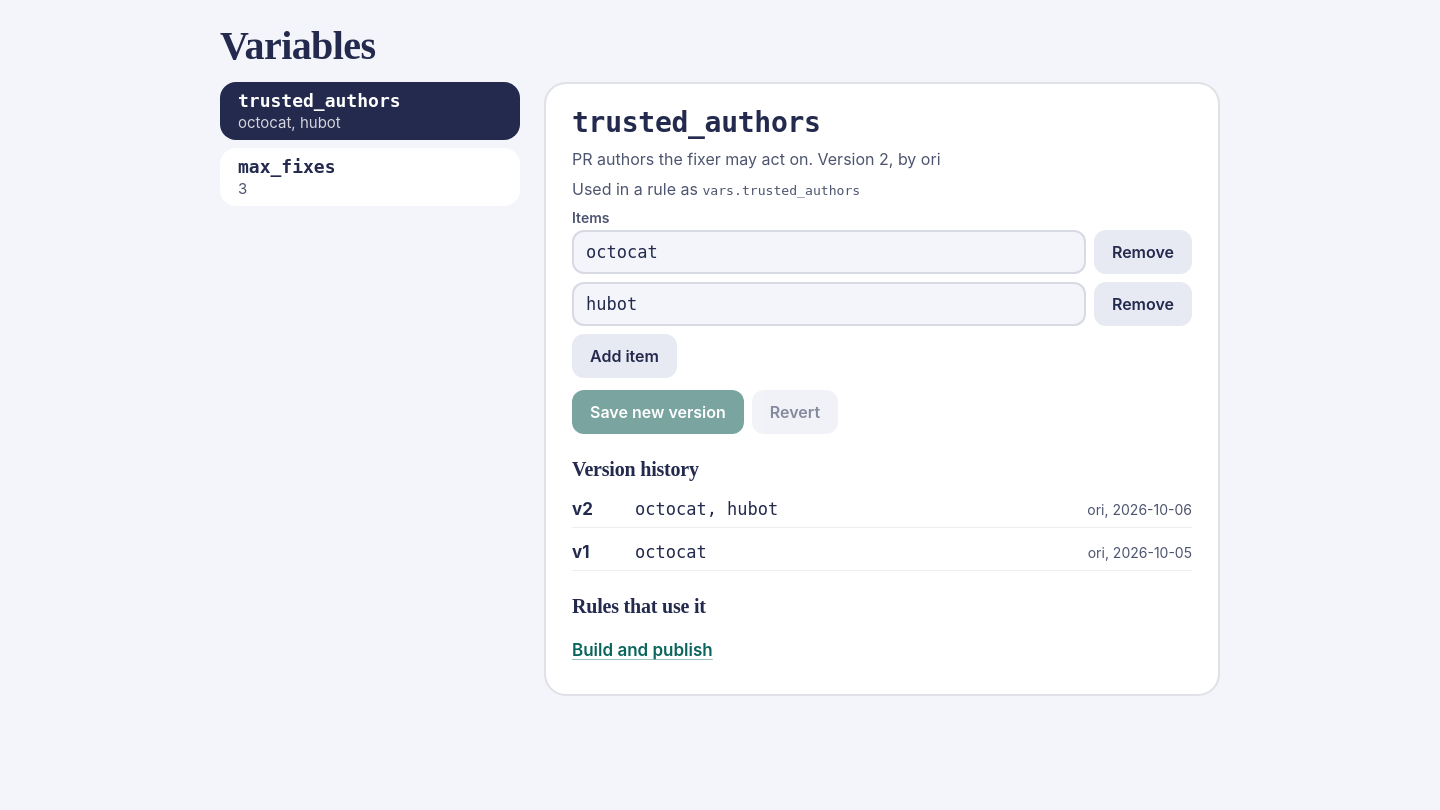
Test case: Variables tab › lets an admin edit a list one item per row and appends a version
Expected: the field named "Item 1" holds "octocat", [572, 230, 1086, 274]
Expected: the field named "Item 2" holds "hubot", [572, 282, 1086, 326]
Step 1. Click the button "Add item" → (624, 356), box [572, 334, 677, 378]
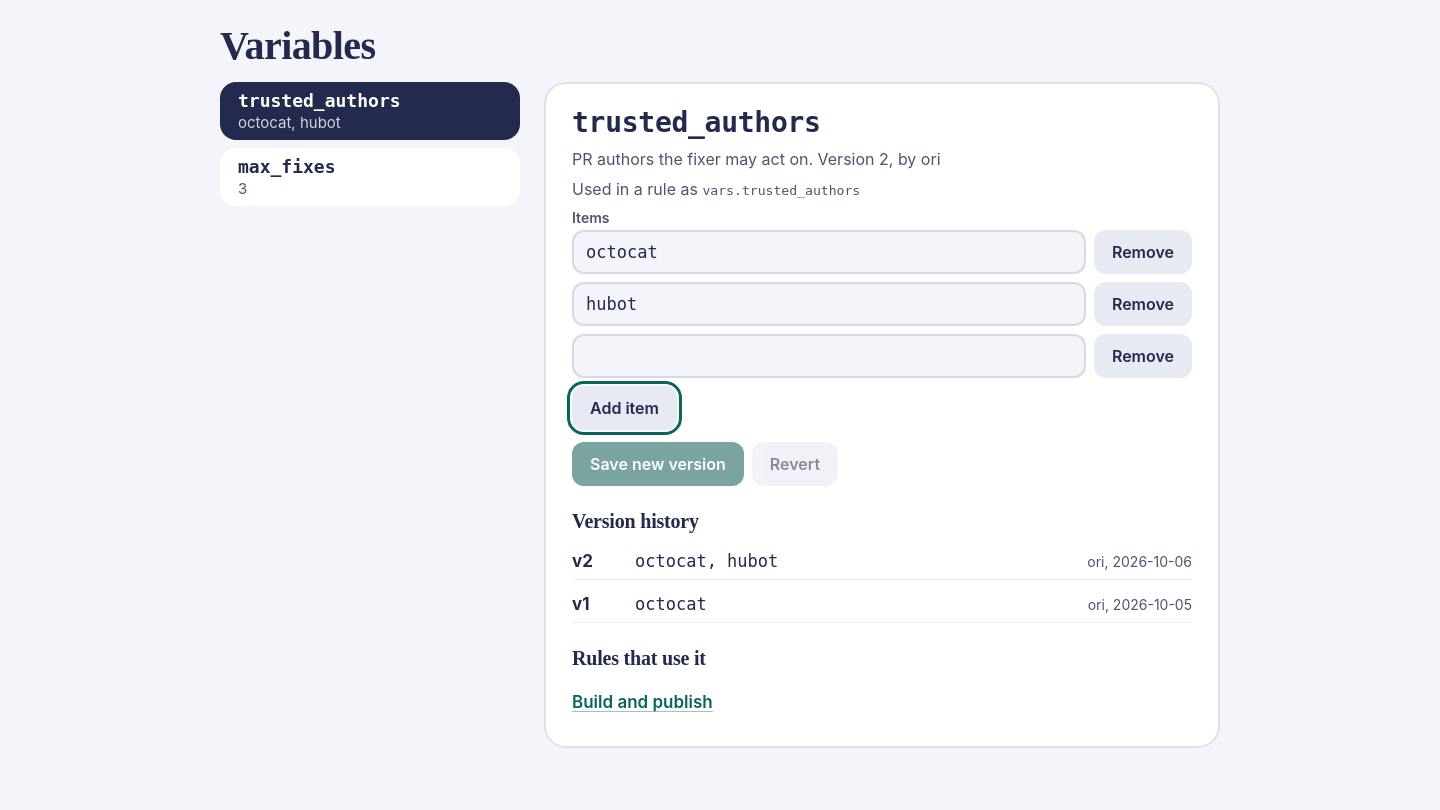
Step 2. Type "monalisa" into the field named "Item 3" → (829, 356), box [572, 334, 1086, 378]
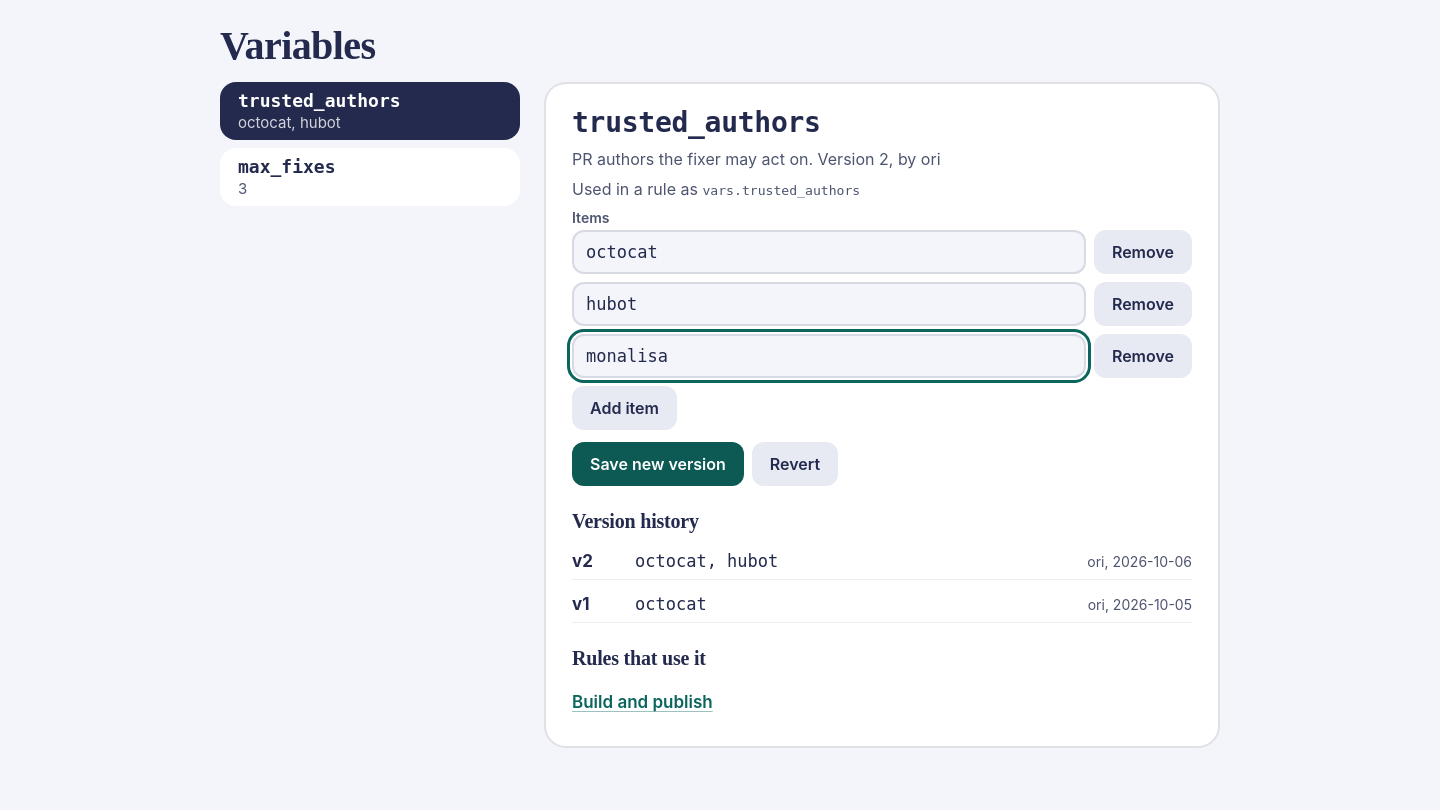
Step 3. Click the button "Save new version" → (658, 464), box [572, 442, 744, 486]
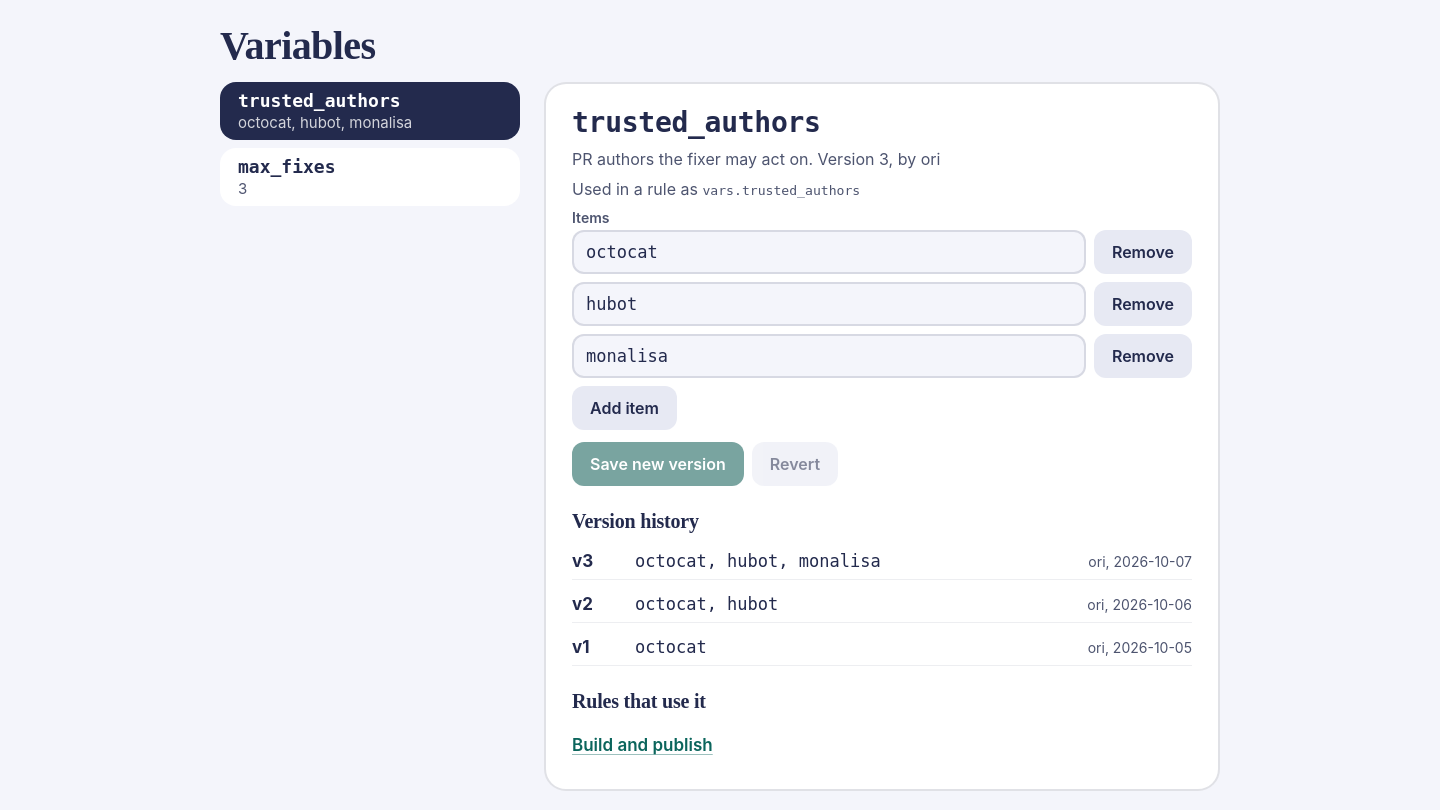
Now the list item "v3 octocat, hubot, monalisa ori, 2026-10-07" is shown, box [572, 543, 1192, 580]
